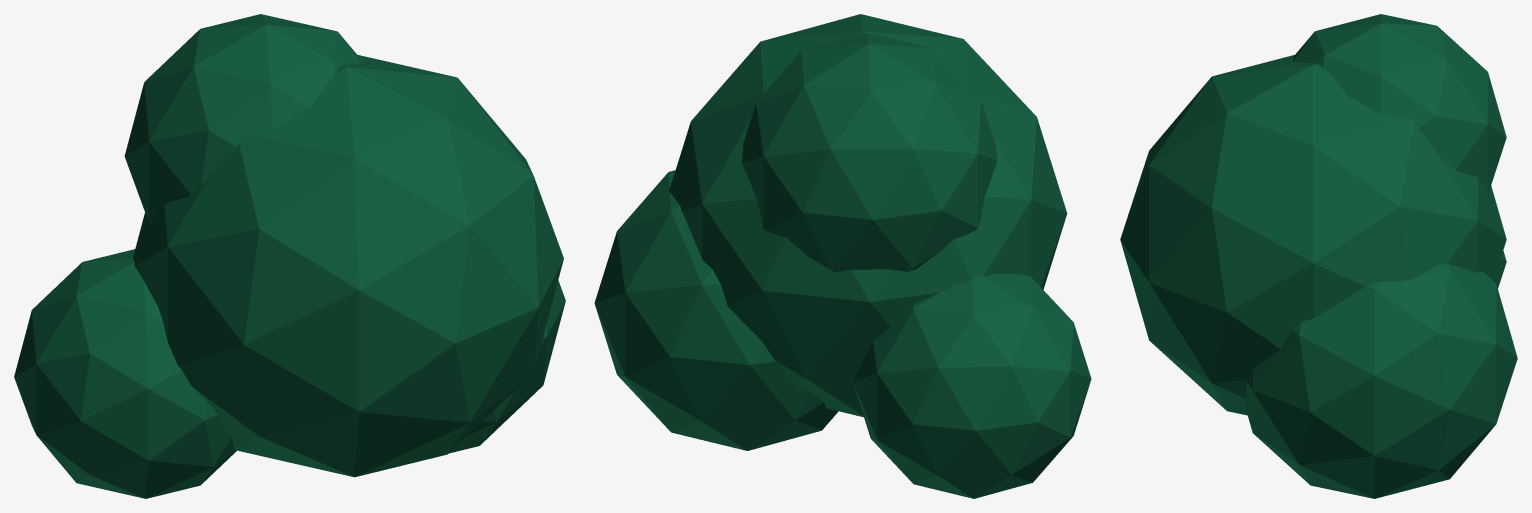
File: bushes.glb
The picture shows the model from 3 angles, left to right: view 1: azimuth 30°, elevation 25°; view 2: azimuth 150°, elevation 25°; view 3: azimuth 270°, elevation 25°; orthographic projection. The views are drawn at different scales.
Visible parts, largest first — view 1: Bushes; view 2: Bushes; view 3: Bushes.
Boxes of the visible parts, x1,y1,x2,y2 form: Bushes: (14,14,565,498); Bushes: (594,14,1091,498); Bushes: (1120,14,1517,498).
Bounding box in the file's own units: 0.4655 × 0.4138 × 0.3674.
